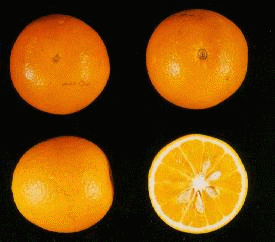orange: (146, 8, 249, 109), (147, 133, 248, 234), (10, 13, 110, 115), (12, 136, 115, 232)
